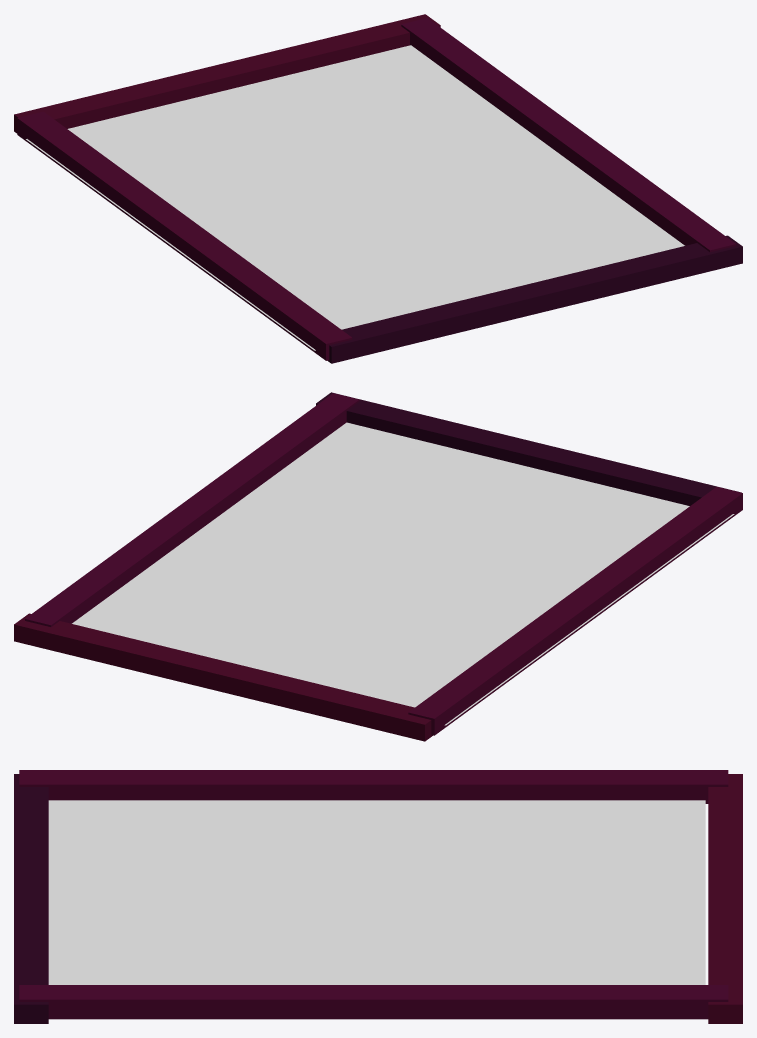
Rendered from picture 3.fbx.
The picture shows the model from 3 angles, top to bottom: view 1: azimuth 30°, elevation 25°; view 2: azimuth 150°, elevation 25°; view 3: azimuth 270°, elevation 25°; orthographic projection. The views are drawn at different scales.
Visible parts, largest first — view 1: 平面, 立方体.001, 立方体.003, 立方体, 立方体.002; view 2: 平面, 立方体.001, 立方体.002, 立方体, 立方体.003; view 3: 平面, 立方体, 立方体.001, 立方体.002, 立方体.003.
Part boxes in pixels (left/top/right/bottom): 平面: left=26, top=45, right=684, bottom=350; 立方体.001: left=17, top=111, right=352, bottom=360; 立方体.003: left=327, top=235, right=742, bottom=363; 立方体: left=401, top=18, right=736, bottom=252; 立方体.002: left=14, top=14, right=440, bottom=133; 平面: left=72, top=422, right=734, bottom=725; 立方体.001: left=408, top=487, right=742, bottom=735; 立方体.002: left=14, top=613, right=432, bottom=741; 立方体: left=25, top=393, right=359, bottom=626; 立方体.003: left=316, top=392, right=741, bottom=505; 平面: left=48, top=800, right=705, bottom=984; 立方体: left=19, top=985, right=728, bottom=1019; 立方体.001: left=19, top=770, right=728, bottom=803; 立方体.002: left=708, top=774, right=742, bottom=1023; 立方体.003: left=14, top=774, right=48, bottom=1023.
Size of the model in its own units: 233 by 10.1 by 308.
